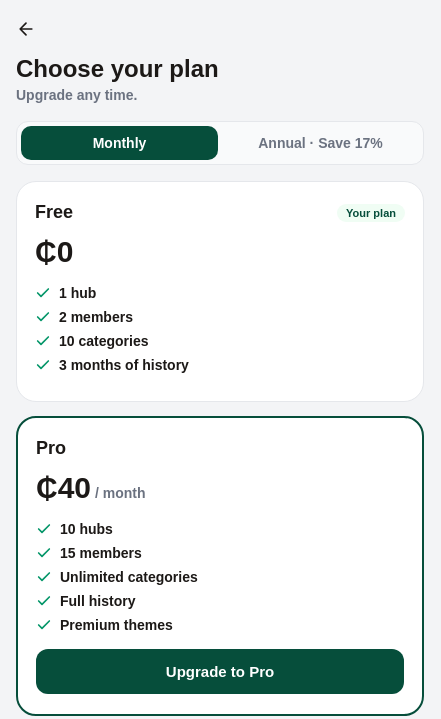
PricingView › a checkout failure shows an error and does not redirect
This screenshot has width=441, height=719.
Click the button with test id "upgrade-cta" at (220, 672), box [36,649,404,694]
(page scrolled)
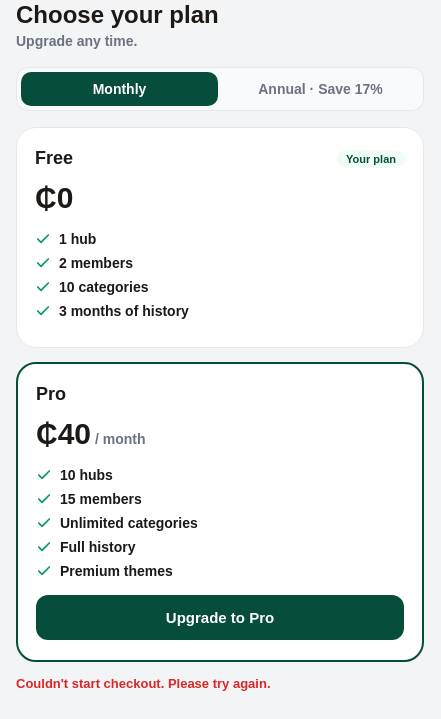
Now the text "Couldn't start checkout. Please try again." is shown, box [16,676,270,691]
